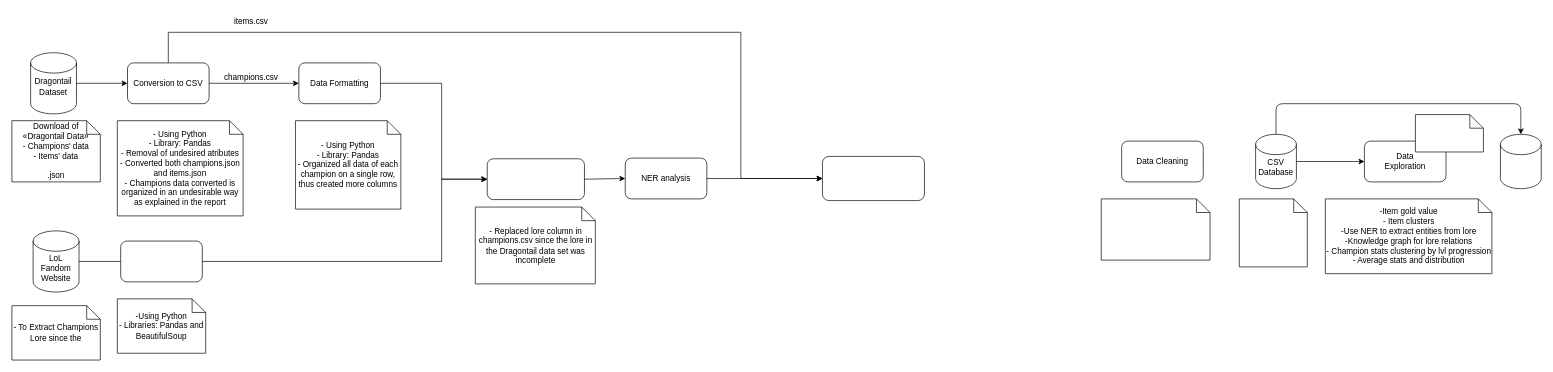
This 1553x372 diagram has some shape labels left out. The shapes that lost their labels are listed below. From the top down, each one's centre as x and y in pixels, then its label:
(x=1449, y=133): - Excel - Python using pandas/nltk...
(x=535, y=179): Joined Data from both Data Sources
(x=873, y=178): Data Characterization
(x=1520, y=161): SQL Database
(x=1155, y=229): - Removal of undesired data - Aggregation of attributes - Data reformatting
(x=1273, y=232): «Riot Official Data» .json
(x=161, y=261): Scrapping
